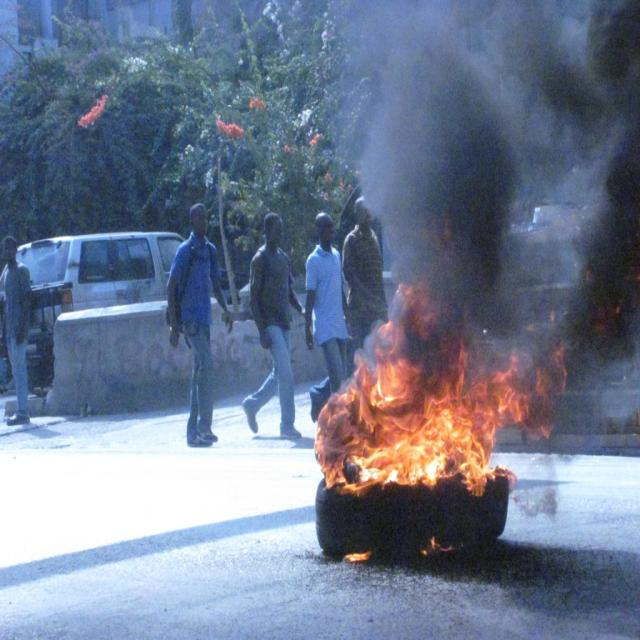fire: (316, 392, 488, 498), (348, 289, 466, 391), (488, 371, 527, 453)
